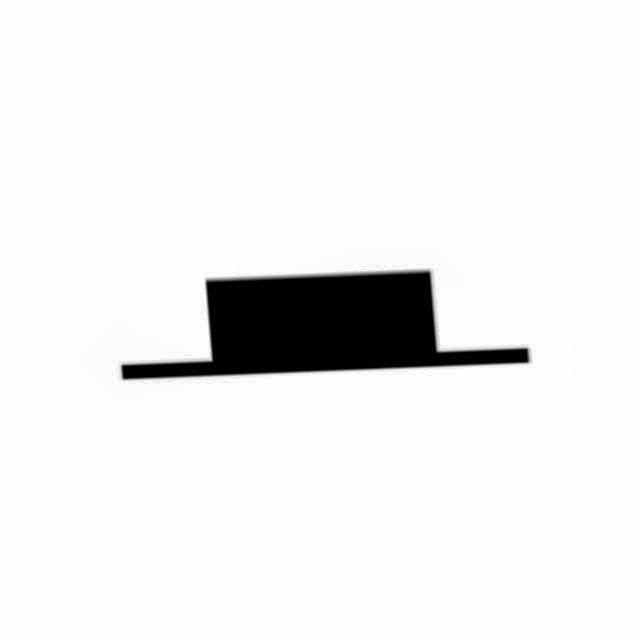Half-rest: (98, 253, 564, 401)
